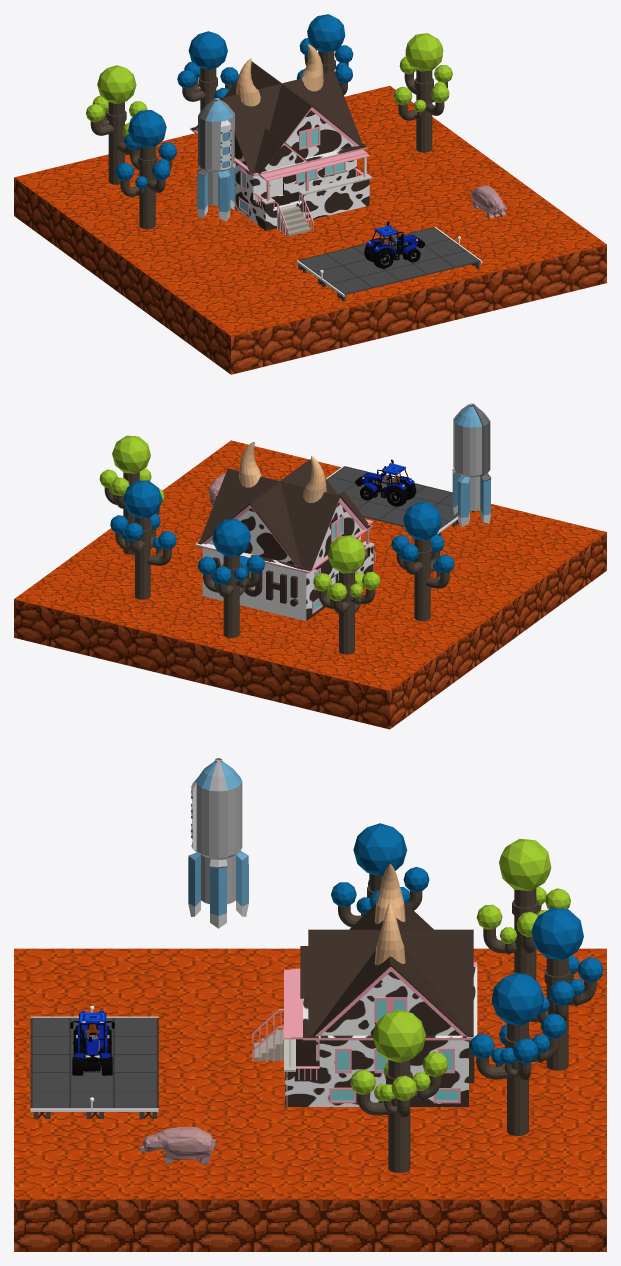
The picture shows the model from 3 angles, top to bottom: view 1: azimuth 30°, elevation 25°; view 2: azimuth 150°, elevation 25°; view 3: azimuth 270°, elevation 25°; orthographic projection. The views are drawn at different scales.
Parts seen in each view (by area): view 1: Cube.001, Cube.1242, OBJRANDOM_ROCKETSHIP, VEHICLES_TRACTOR, ANIMAL_HIPOPOTAMO; view 2: Cube.001, Cube.1242, OBJRANDOM_ROCKETSHIP, VEHICLES_TRACTOR; view 3: Cube.001, Cube.1242, OBJRANDOM_ROCKETSHIP, VEHICLES_TRACTOR, ANIMAL_HIPOPOTAMO.
Part boxes in pixels (x1=…): Cube.001: x1=14, y1=14, x2=606, y2=374; Cube.1242: x1=190, y1=44, x2=372, y2=237; OBJRANDOM_ROCKETSHIP: x1=197, y1=98, x2=235, y2=221; VEHICLES_TRACTOR: x1=364, y1=221, x2=424, y2=268; ANIMAL_HIPOPOTAMO: x1=471, y1=185, x2=507, y2=217; Cube.001: x1=14, y1=435, x2=606, y2=729; Cube.1242: x1=195, y1=441, x2=375, y2=621; OBJRANDOM_ROCKETSHIP: x1=452, y1=403, x2=491, y2=526; VEHICLES_TRACTOR: x1=355, y1=459, x2=416, y2=506; Cube.001: x1=14, y1=823, x2=606, y2=1251; Cube.1242: x1=252, y1=864, x2=477, y2=1106; OBJRANDOM_ROCKETSHIP: x1=188, y1=758, x2=248, y2=928; VEHICLES_TRACTOR: x1=70, y1=1011, x2=114, y2=1075; ANIMAL_HIPOPOTAMO: x1=138, y1=1127, x2=215, y2=1164.
Bounding box in the file's own units: 4000 × 2184 × 4000.
36 materials, 4 textured.
